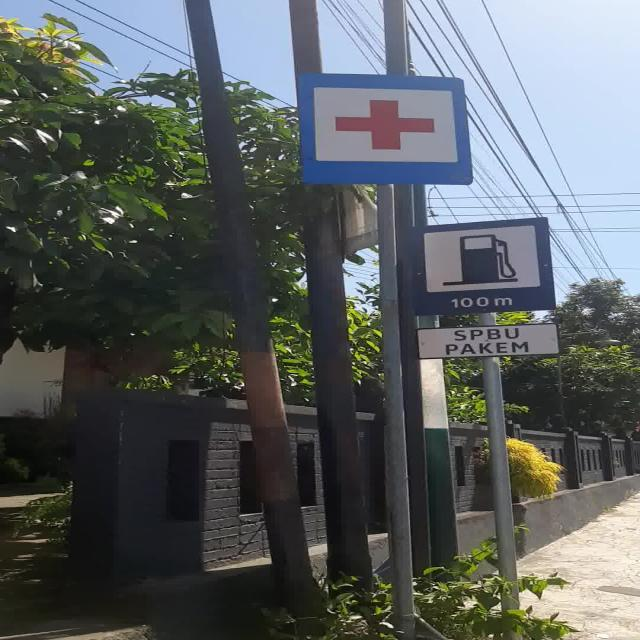Balai Pertolongan Pertama: (297, 73, 473, 185)
Pom Bensin: (409, 218, 556, 316)
